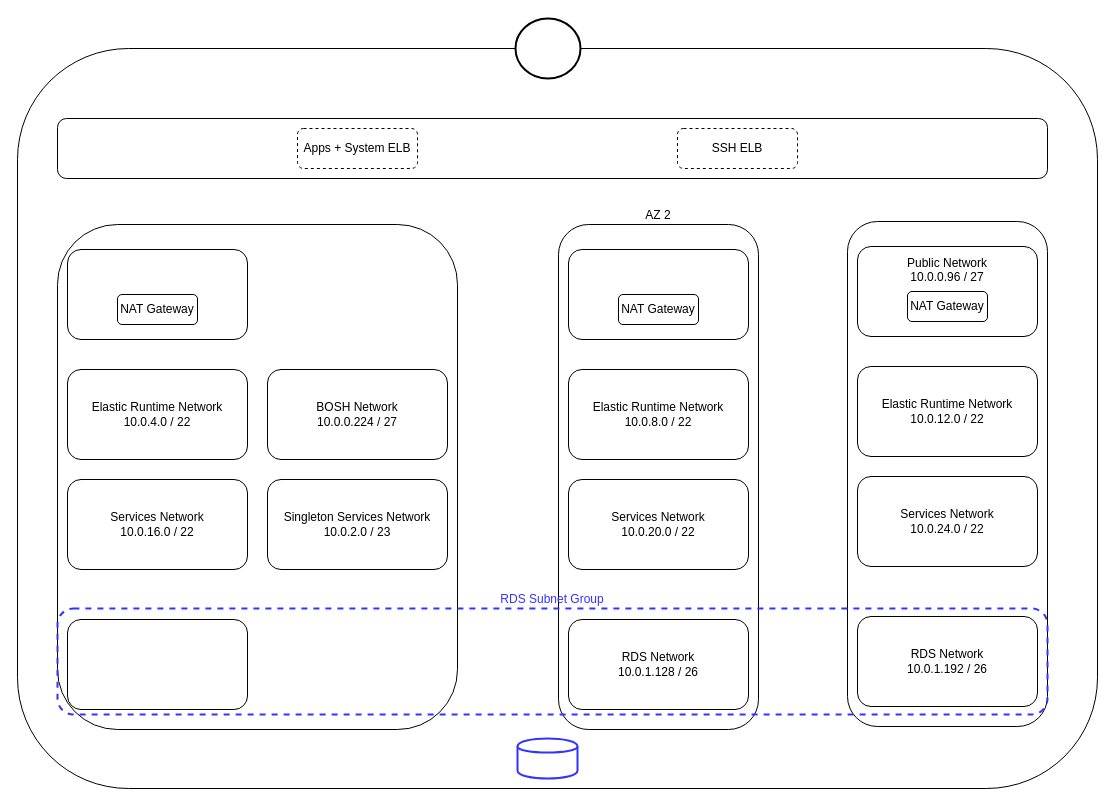
Image size: 1115x806. Some labels were removed from this diagram. Each missing label, with the box of its shape:
AZ 1: (56, 224, 458, 730)
AZ 3: (846, 220, 1048, 726)
Internet Gateway: (514, 17, 581, 79)
Multi-AZ ELBs: (56, 118, 1048, 178)
Multi-AZ RDS Database: (516, 737, 578, 779)
Public Network 10.0.0.32 / 27: (66, 248, 248, 340)
Public Network 10.0.0.64 / 27: (568, 248, 748, 340)
RDS Network 10.0.1.64 / 26: (66, 618, 248, 710)
